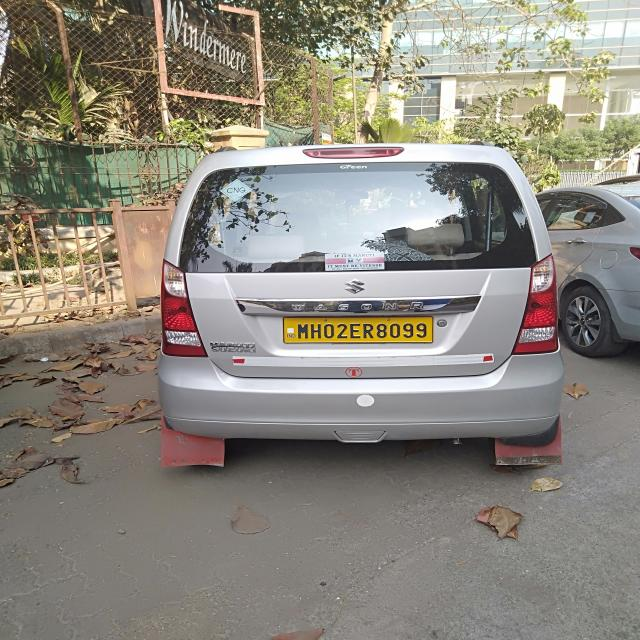Number-Plate: (288, 316, 432, 342)
